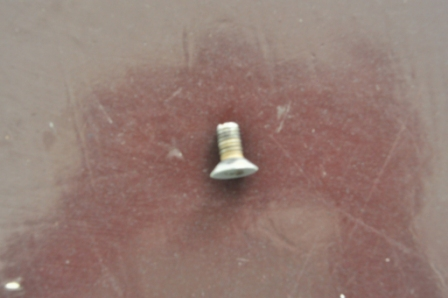NUT(AC): (209, 121, 259, 182)
